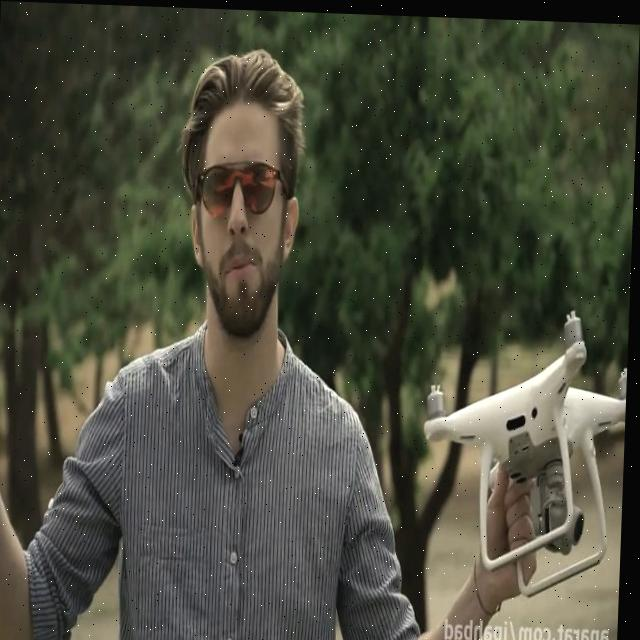drone: (421, 295, 632, 596)
